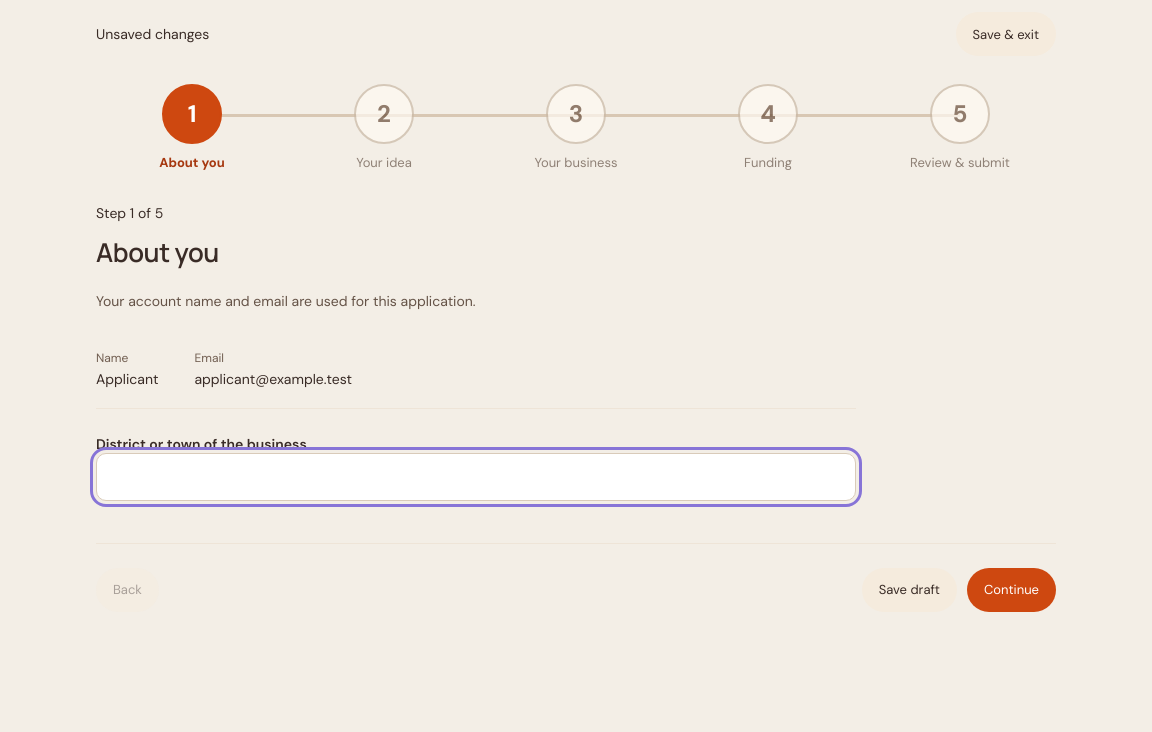
Test: keeps the active field focused when an autosave completes
Later steps or results of the test are not shown.
Step 1. Type "Maun" into the field labelled "District or town of the business" → (476, 477), box [96, 453, 856, 501]
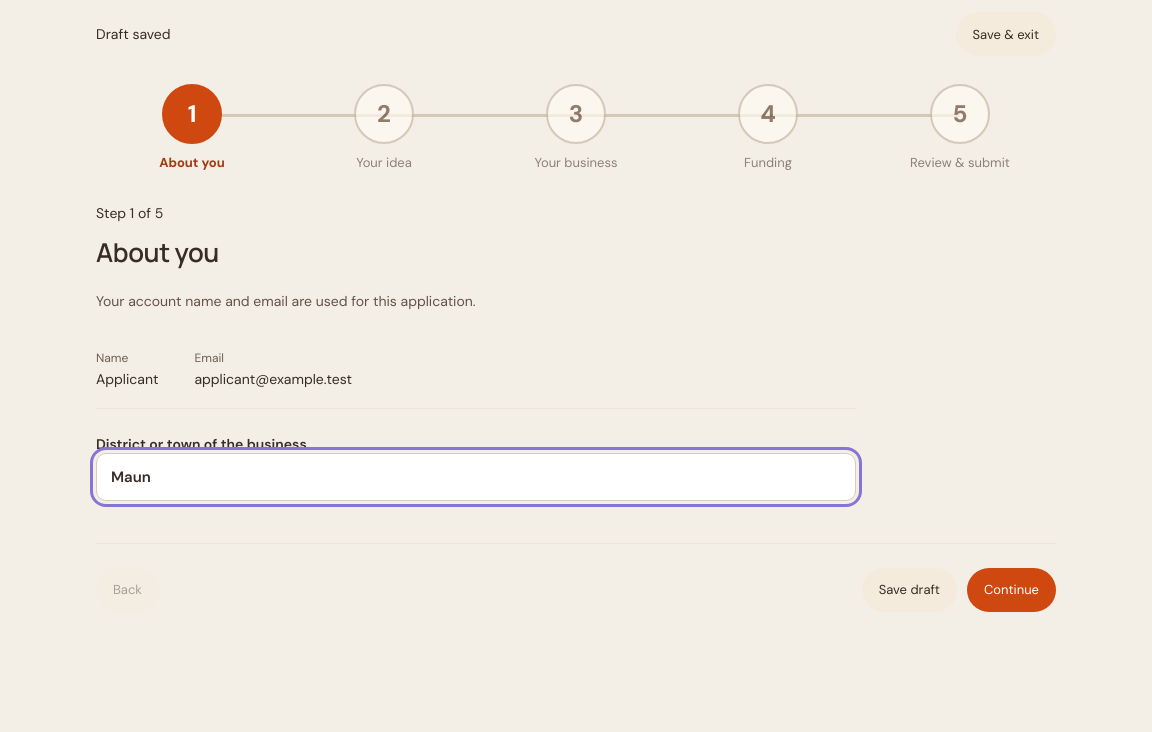
Check: the text "Draft saved" is shown, box [96, 25, 170, 43]
